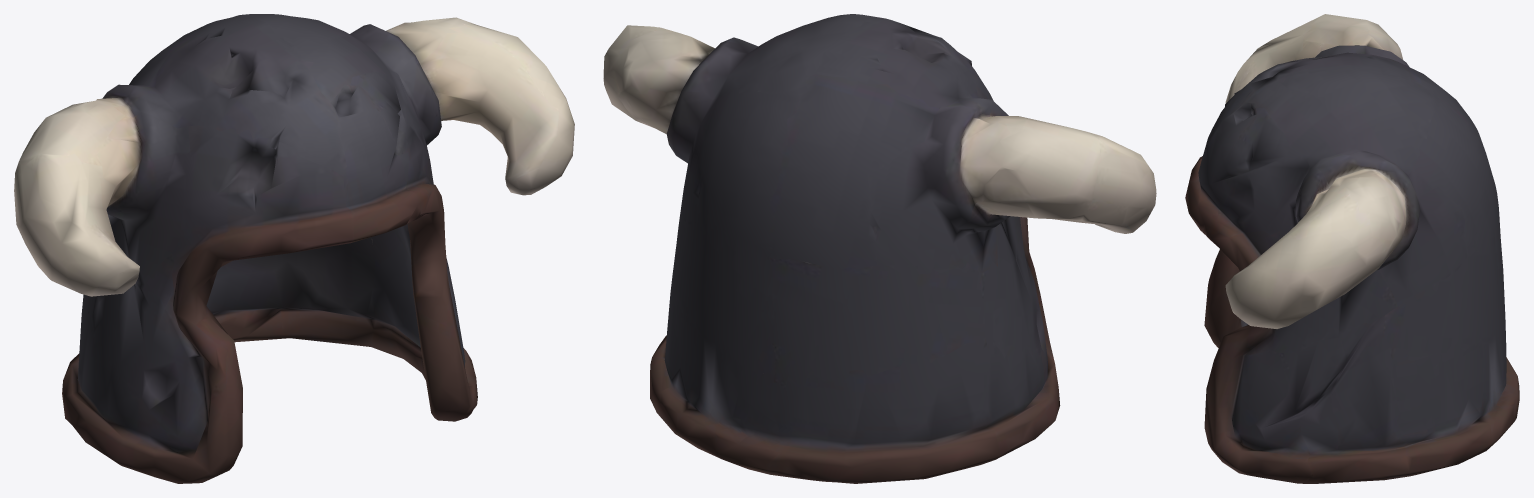
Rendered from hat_hornedHelm-C9jtl34k.glb.
3 views of the same model, side by side, from view 1: azimuth 30°, elevation 25°; view 2: azimuth 150°, elevation 25°; view 3: azimuth 270°, elevation 25° (orthographic). The views are drawn at different scales.
Visible parts, largest first — view 1: tripo_node_4f5dac54-4b34-46ff-b163-bd95a13b03e2; view 2: tripo_node_4f5dac54-4b34-46ff-b163-bd95a13b03e2; view 3: tripo_node_4f5dac54-4b34-46ff-b163-bd95a13b03e2.
Boxes of the visible parts, x1,y1,x2,y2 form: tripo_node_4f5dac54-4b34-46ff-b163-bd95a13b03e2: [14, 14, 574, 483]; tripo_node_4f5dac54-4b34-46ff-b163-bd95a13b03e2: [603, 14, 1156, 483]; tripo_node_4f5dac54-4b34-46ff-b163-bd95a13b03e2: [1185, 14, 1519, 483].
Bounding box in the file's own units: 1 × 0.6756 × 0.5929.
Materials: 1 (1 with a texture image).
